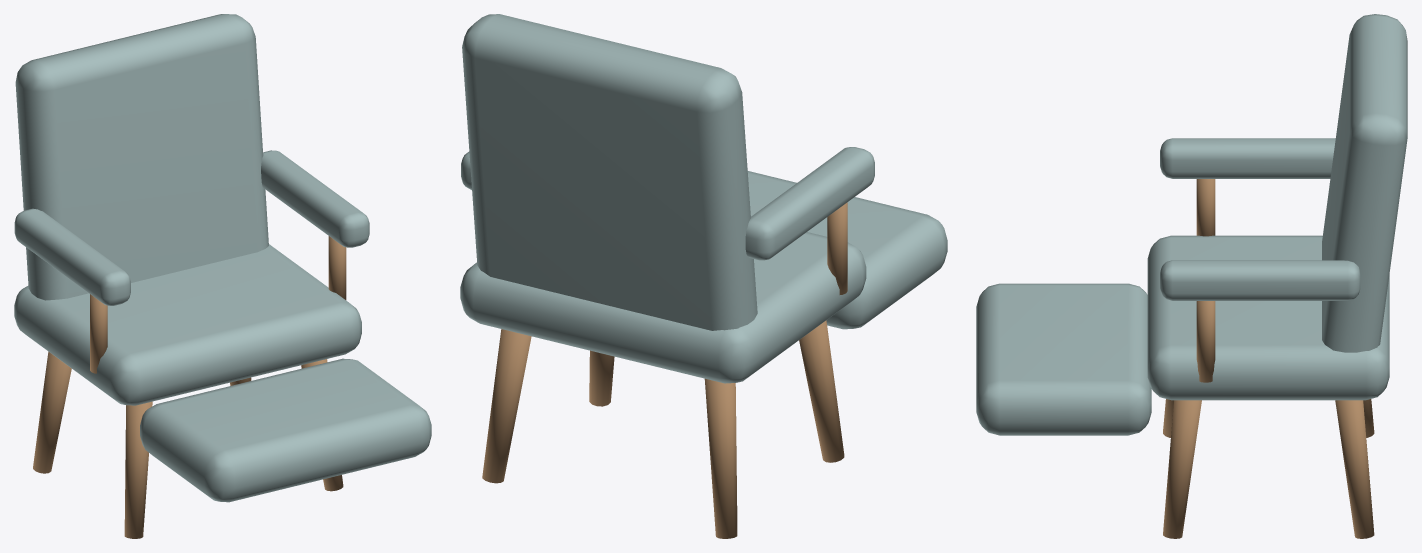
The model's file is atelier-recliner.glb.
3 views of the same model, side by side, from view 1: azimuth 30°, elevation 25°; view 2: azimuth 150°, elevation 25°; view 3: azimuth 270°, elevation 25° (orthographic). The views are drawn at different scales.
Visible parts, largest first — view 1: fabric.010, legs.010; view 2: fabric.010, legs.010; view 3: fabric.010, legs.010.
Boxes of the visible parts, x1=… form: fabric.010: x1=14, y1=14, x2=431, y2=502; legs.010: x1=33, y1=236, x2=346, y2=538; fabric.010: x1=460, y1=14, x2=947, y2=383; legs.010: x1=482, y1=202, x2=847, y2=538; fabric.010: x1=976, y1=14, x2=1407, y2=435; legs.010: x1=1163, y1=179, x2=1374, y2=538.
Bounding box in the file's own units: 0.7762 × 1.11 × 1.03.
